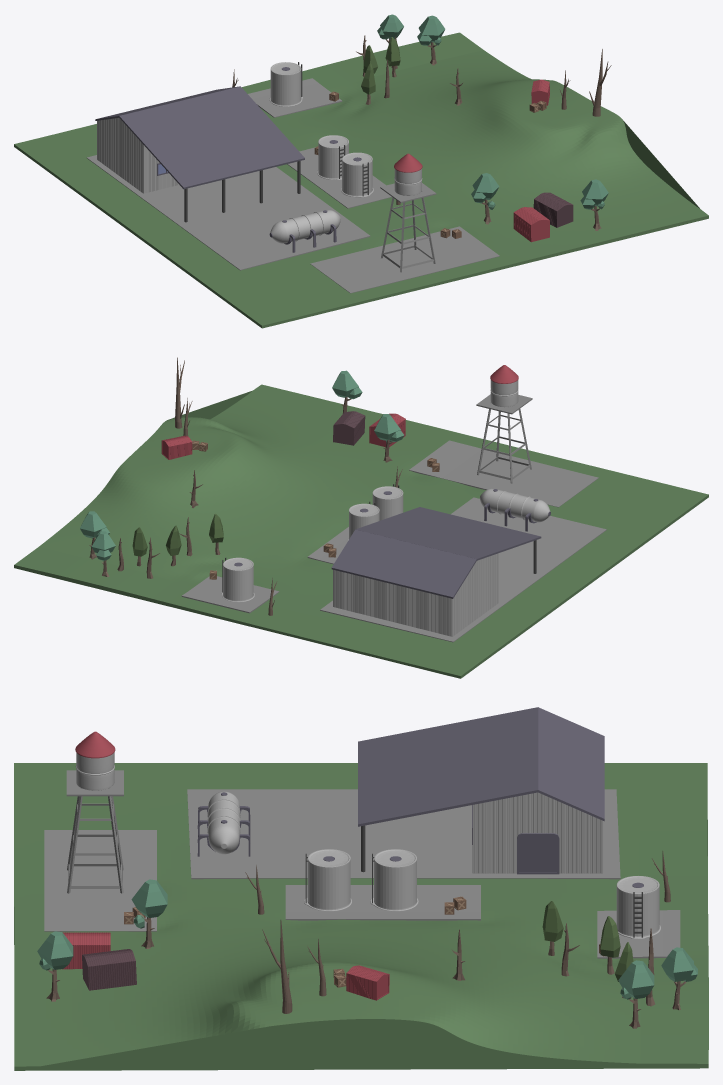
File: локация1 в цвете.fbx
The picture shows the model from 3 angles, top to bottom: view 1: azimuth 30°, elevation 25°; view 2: azimuth 150°, elevation 25°; view 3: azimuth 270°, elevation 25°; orthographic projection. The views are drawn at different scales.
Parts seen in each view (by area): view 1: земля, крыша, площадка.001, площадка.002, здание, Cube.002, площадка, площадка.003, цилиндрик, фигня.002, фигня.001, фигня.003 (+4 smaller); view 2: земля, крыша, здание, площадка.001, площадка.002, Cube.002, площадка.003, цилиндрик, фигня.002, Plane.001, фигня.001, фигня.003 (+3 smaller); view 3: земля, крыша, площадка.001, площадка.002, здание, площадка, Cube.002, фигня.001, фигня.003, фигня.002, площадка.003, Plane.001 (+13 smaller).
Boxes of the visible parts, x1,y1,x2,y2 form: земля: (14, 32, 708, 328); крыша: (95, 86, 304, 189); площадка.001: (87, 155, 370, 270); площадка.002: (310, 226, 499, 293); здание: (97, 117, 178, 193); Cube.002: (380, 183, 436, 272); площадка: (287, 147, 391, 208); площадка.003: (248, 78, 342, 117); цилиндрик: (270, 210, 340, 243); фигня.002: (269, 62, 302, 106); фигня.001: (341, 152, 373, 197); фигня.003: (317, 135, 348, 179); земля: (14, 384, 708, 678); крыша: (331, 507, 541, 598); здание: (333, 553, 498, 636); площадка.001: (320, 497, 606, 642); площадка.002: (409, 440, 598, 507); Cube.002: (476, 394, 532, 483); площадка.003: (181, 576, 279, 613); цилиндрик: (480, 488, 550, 522); фигня.002: (221, 557, 254, 602); Plane.001: (333, 411, 365, 445); фигня.001: (372, 486, 403, 520); фигня.003: (348, 503, 379, 540); земля: (14, 763, 708, 1070); крыша: (358, 707, 604, 826); площадка.001: (187, 789, 620, 879); площадка.002: (44, 830, 156, 931); здание: (472, 792, 603, 873); площадка: (285, 885, 480, 920); Cube.002: (66, 770, 123, 893); фигня.001: (304, 849, 352, 911); фигня.003: (370, 849, 418, 911); фигня.002: (616, 876, 660, 938); площадка.003: (597, 910, 680, 958); Plane.001: (82, 949, 136, 990).
Size of the model in its own units: 15016 by 3533 by 14357.
